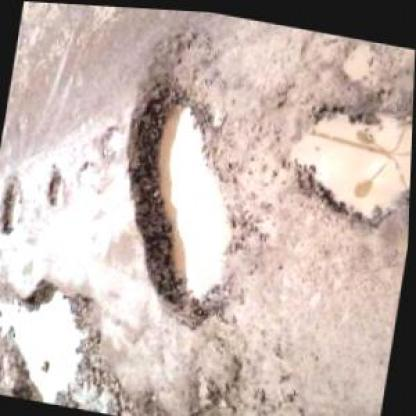pothole: (99, 15, 286, 329), (273, 85, 412, 230), (187, 362, 241, 415), (0, 173, 31, 237), (336, 32, 376, 80), (97, 121, 126, 162), (46, 166, 70, 208), (75, 158, 105, 191)
